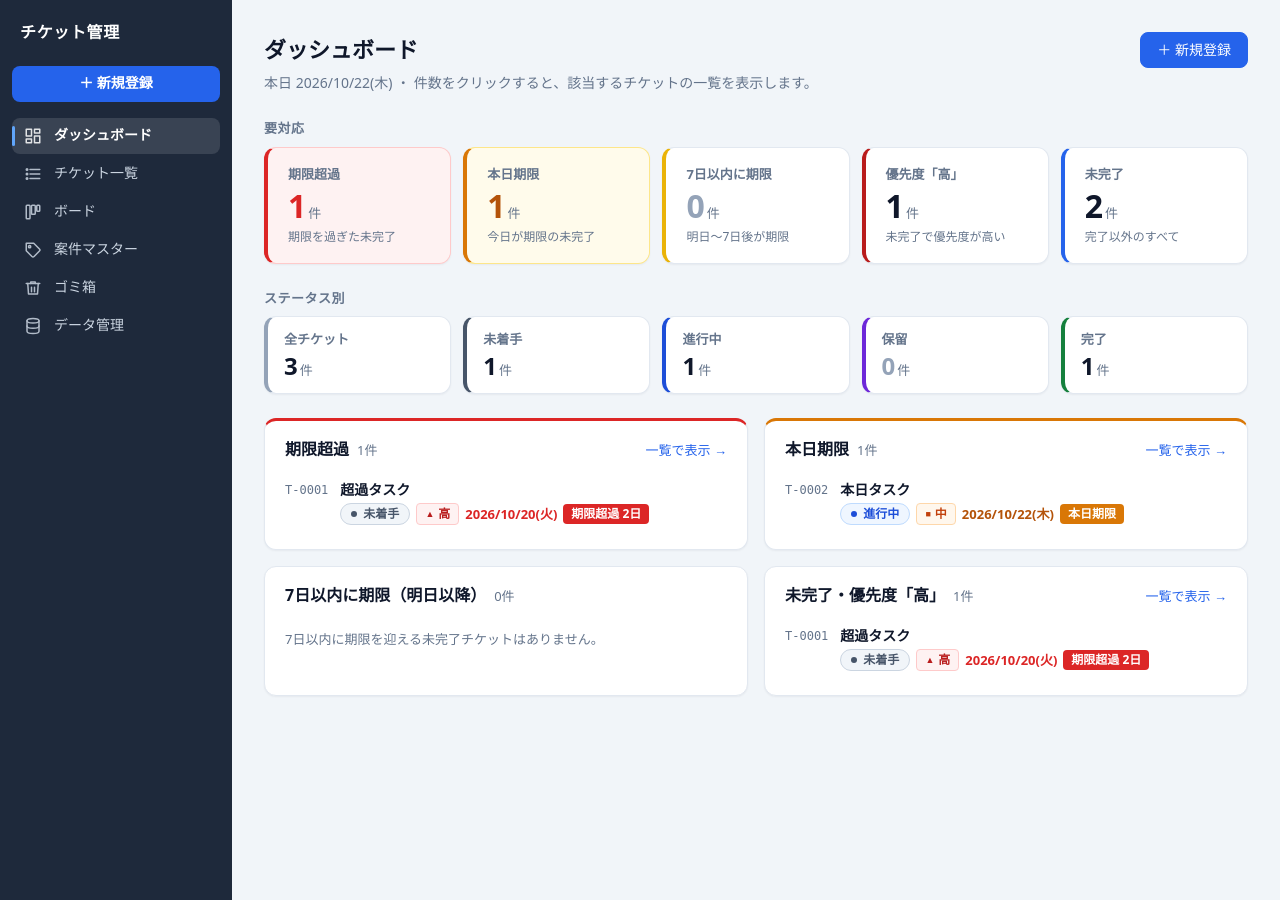
Test: チケット管理アプリ（画面操作） › ダッシュボードの件数から絞り込み済みの一覧へ移動できる
The width and height of the screenshot is (1280, 900).
Expected: the link "全チケット 3件" is shown, [264,316,451,394]
Step 1. Click the link "期限超過 1件 期限を過ぎた未完了" → (358, 205), box [264,147,451,264]
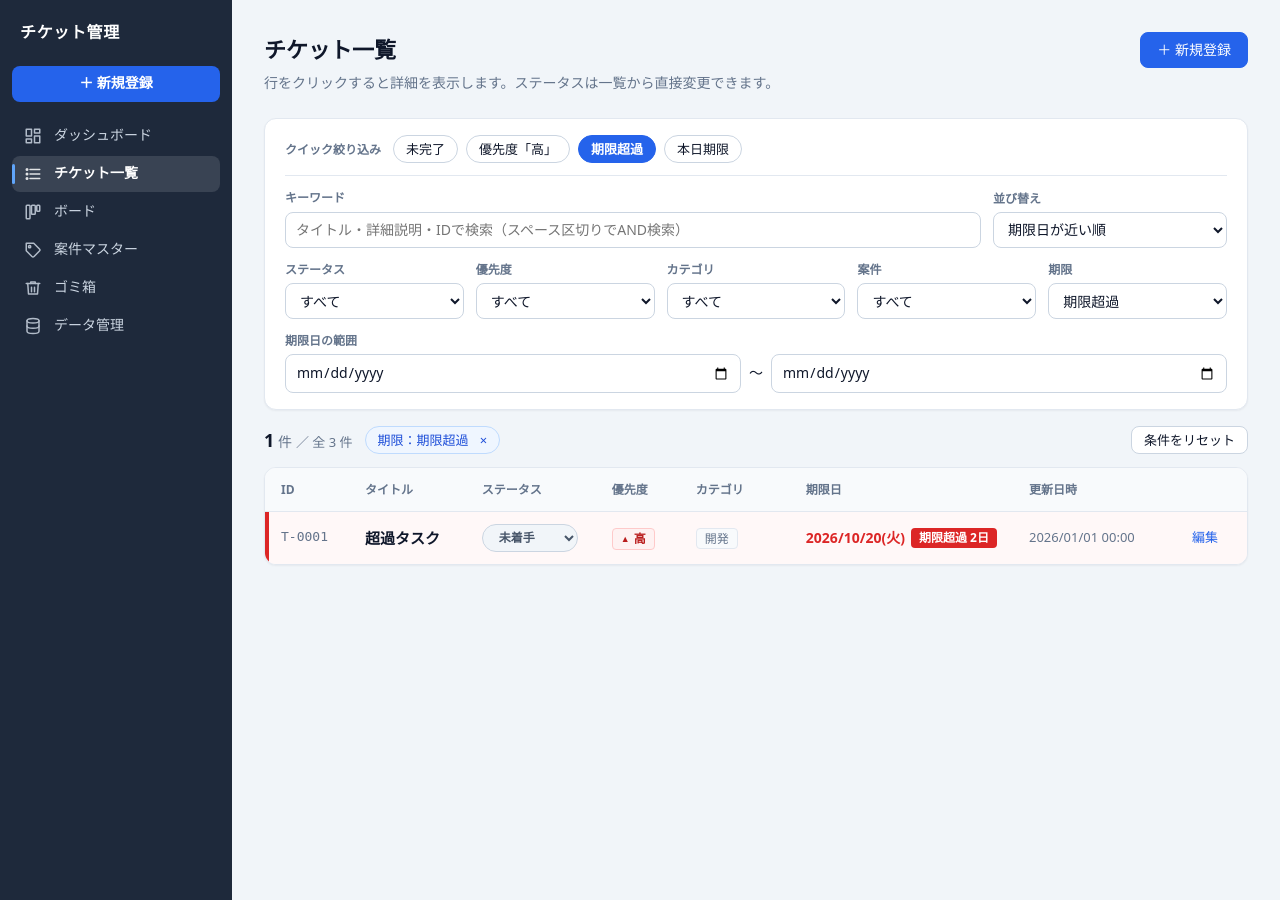
Expected: the link "超過タスク" is shown, [365,528,440,548]
Result: the text "期限：期限超過" is shown at [378,430,468,450]
Result: the number of rows is 2 at [265,468,1247,511]; [265,511,1247,564]
